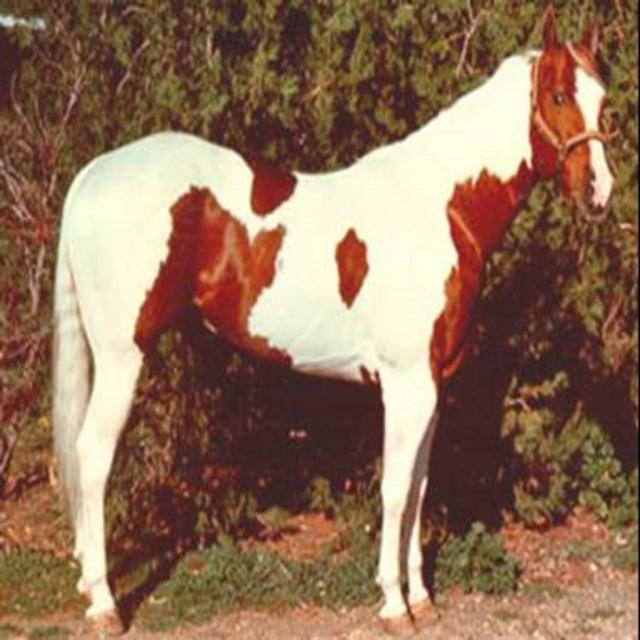Horse: (53, 2, 616, 638)
